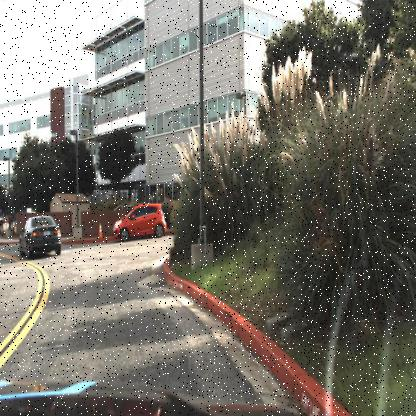car: (110, 200, 169, 242), (18, 213, 62, 260)
